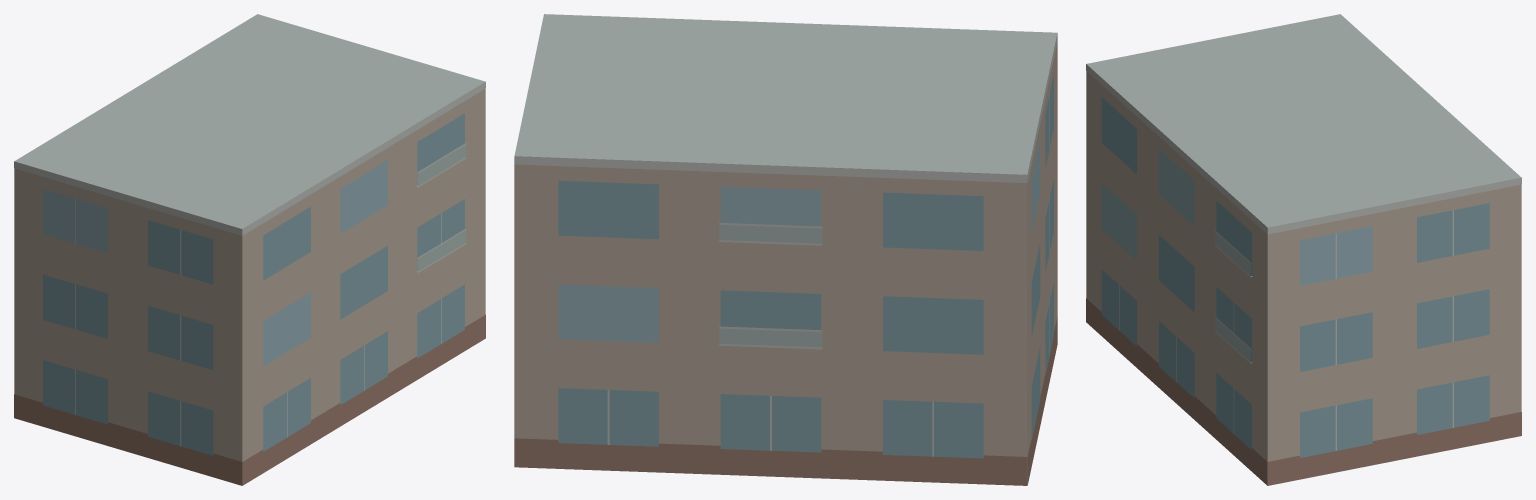
The model's file is survey-upis-32698036.glb.
3 views of the same model, side by side, from view 1: azimuth 30°, elevation 25°; view 2: azimuth 150°, elevation 25°; view 3: azimuth 270°, elevation 25° (orthographic). The views are drawn at different scales.
Visible parts, largest first — view 1: survey-upis-32698036.tmp; view 2: survey-upis-32698036.tmp; view 3: survey-upis-32698036.tmp.
Boxes of the visible parts, x1=… form: survey-upis-32698036.tmp: x1=14, y1=14, x2=485, y2=485; survey-upis-32698036.tmp: x1=514, y1=14, x2=1057, y2=485; survey-upis-32698036.tmp: x1=1086, y1=14, x2=1521, y2=485.
Bounding box in the file's own units: 16.24 × 9.15 × 14.
